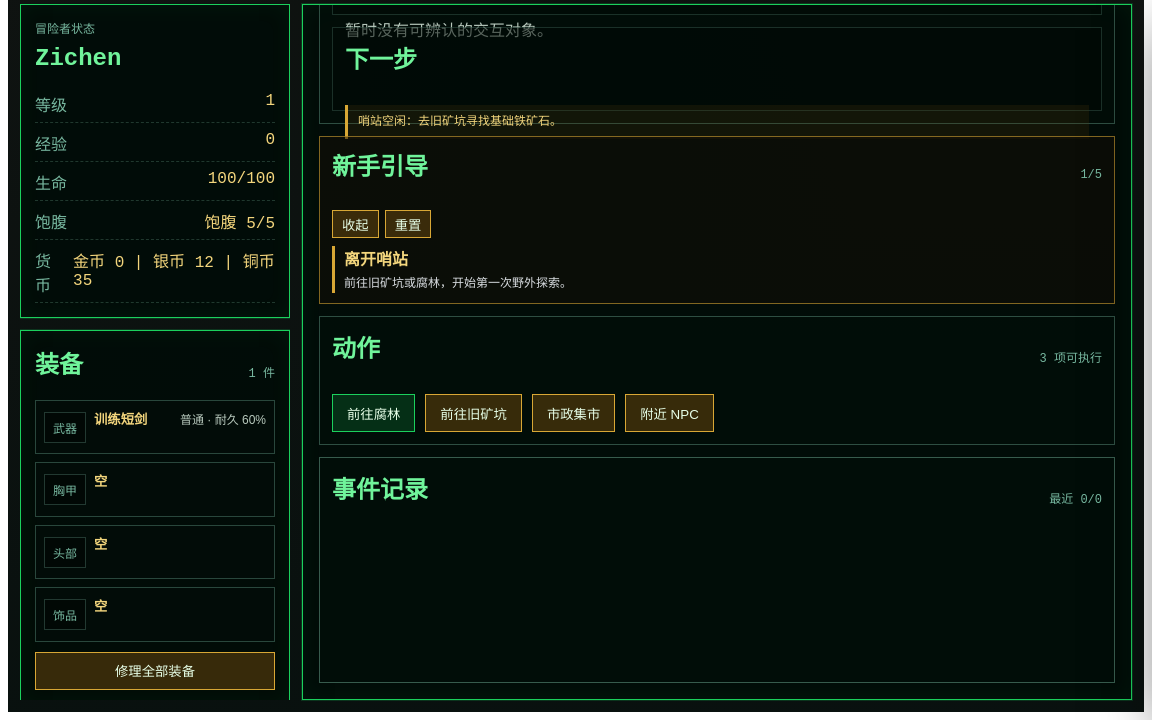
Test: GameShell › disables a market purchase the current copper balance cannot afford
(page scrolled)
Step 1. Click the button "市政集市" → (574, 413), box [532,394,615,432]
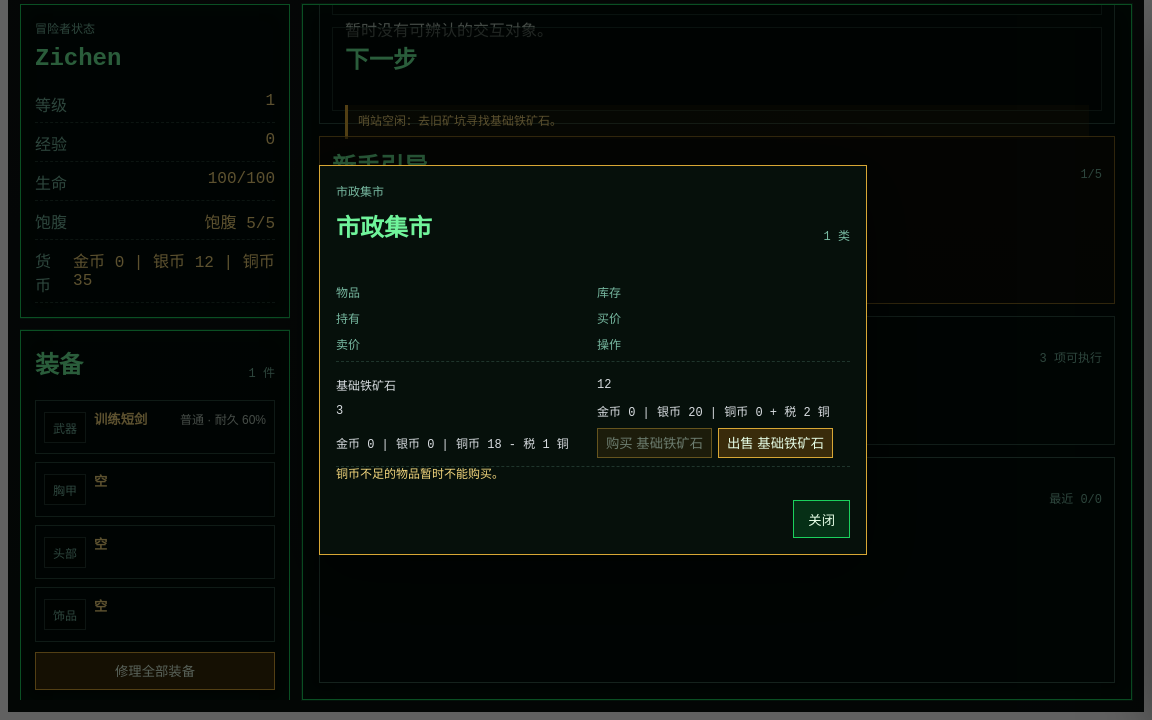
Now the button with aria-label "购买 基础铁矿石，铜币不足" is disabled, box [597,428,712,458]
Now the text "铜币不足的物品暂时不能购买。" is shown, box [336,468,504,482]
